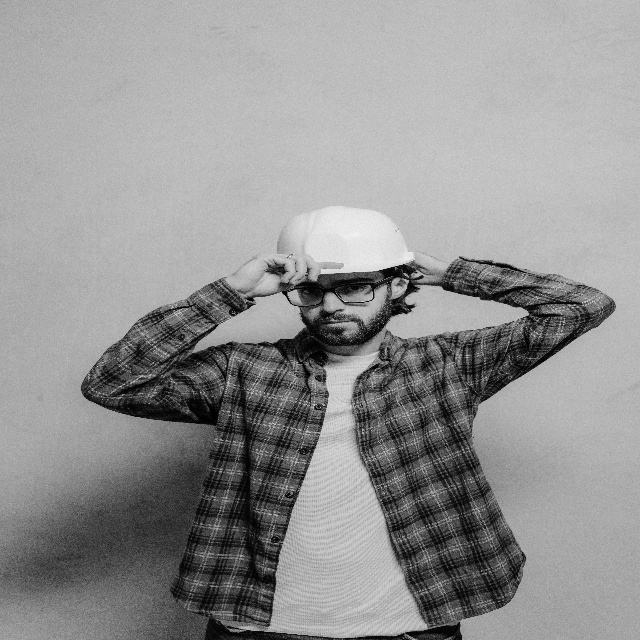Sin_guantes: (232, 256, 342, 285), (410, 249, 447, 289)
